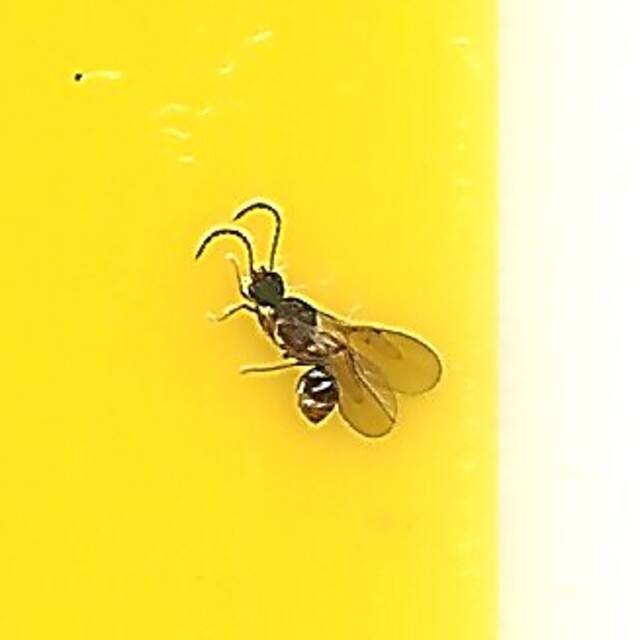Hymenoptera: (196, 199, 444, 441)
